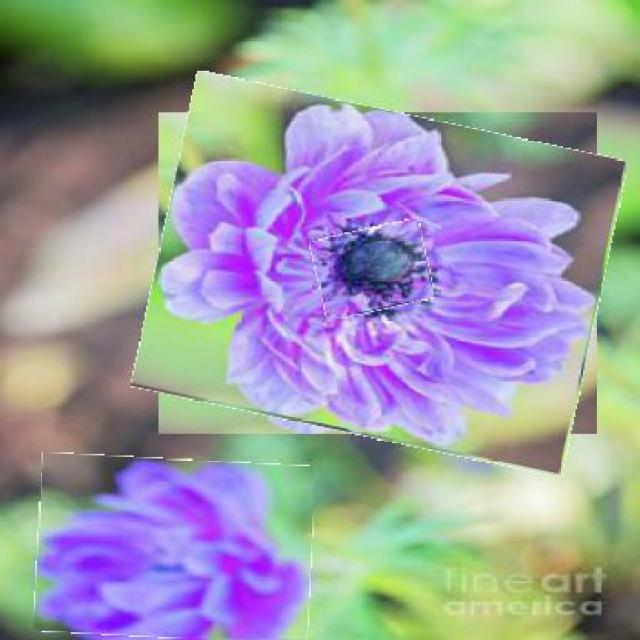Flower: (145, 92, 614, 457), (36, 456, 316, 639), (313, 222, 432, 315)
